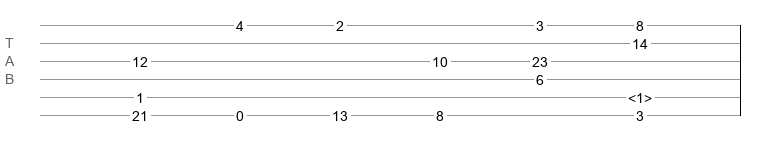0: (236, 108, 244, 118)
1: (136, 90, 144, 100)
10: (432, 54, 448, 64)
12: (132, 54, 148, 64)
13: (332, 108, 348, 118)
14: (632, 36, 648, 46)
2: (336, 18, 344, 28)
21: (132, 108, 148, 118)
23: (532, 54, 548, 64)
3: (536, 18, 544, 28), (636, 108, 644, 118)
4: (236, 18, 244, 28)
6: (536, 72, 544, 82)
8: (436, 108, 444, 118), (636, 18, 644, 28)
harmonic: (628, 90, 652, 100)
